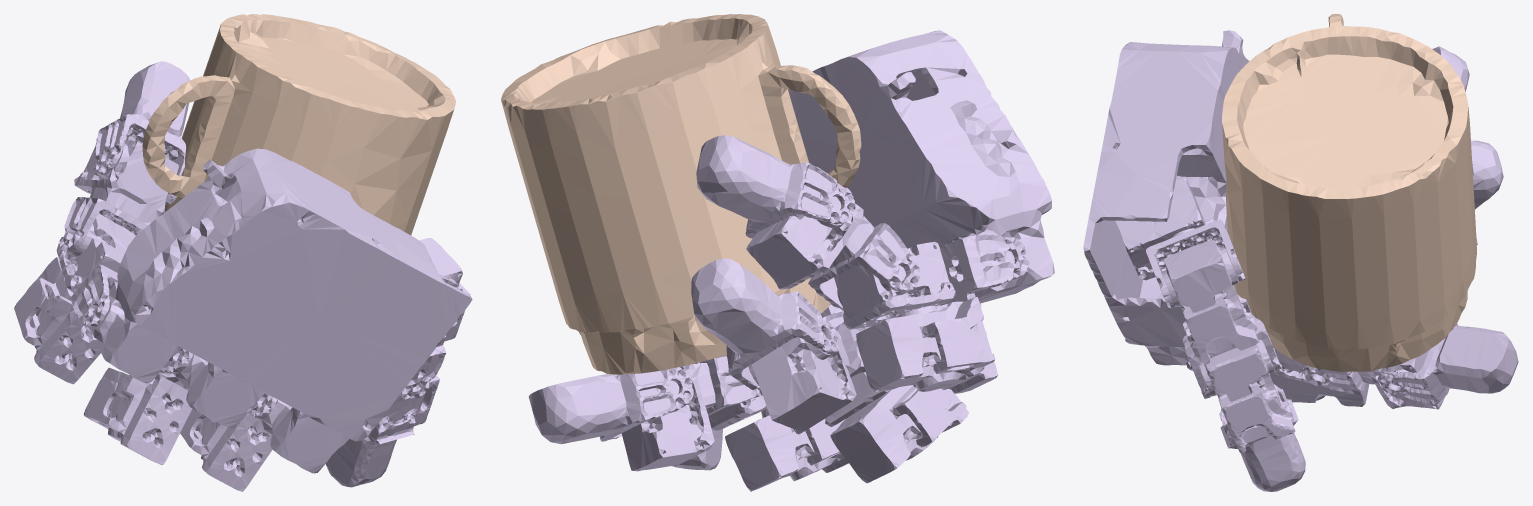
3 views of the same model, side by side, from view 1: azimuth 30°, elevation 25°; view 2: azimuth 150°, elevation 25°; view 3: azimuth 270°, elevation 25° (orthographic). The views are drawn at different scales.
Parts seen in each view (by area): view 1: LEAP_hand, world; view 2: LEAP_hand, world; view 3: world, LEAP_hand.
Part boxes in pixels (<box>): LEAP_hand: <box>14,61,472,491</box>; world: <box>142,14,455,235</box>; LEAP_hand: <box>528,30,1054,491</box>; world: <box>501,14,861,374</box>; world: <box>1222,14,1476,371</box>; LEAP_hand: <box>1083,30,1518,491</box>.
Bounding box in the file's own units: 0.2012 × 0.1941 × 0.1821.
